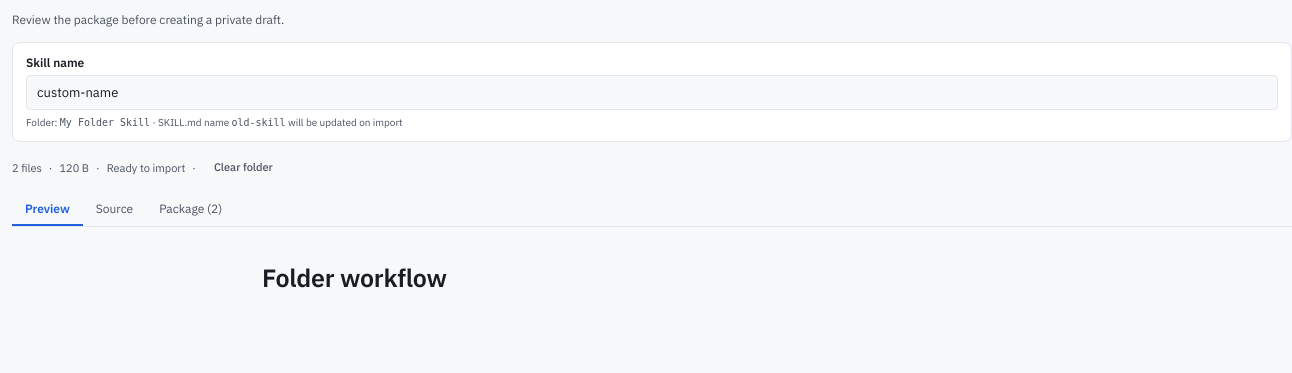
it: SkillPackageImport — review panel › shows the rewritten frontmatter on the Source tab
Click the tab "Source": [114, 210] box [83,193,146,226]
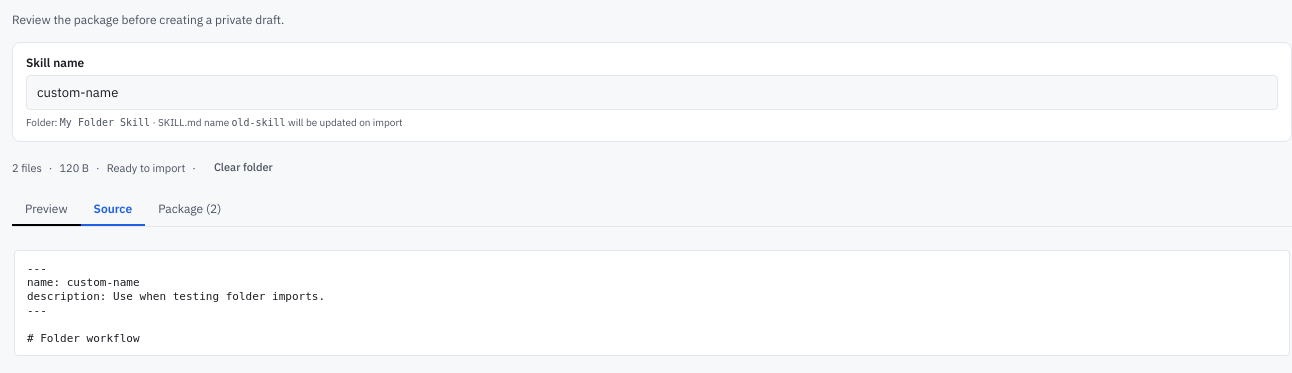
expect the text "name: custom-name" is shown: met, box [27,262,325,345]
